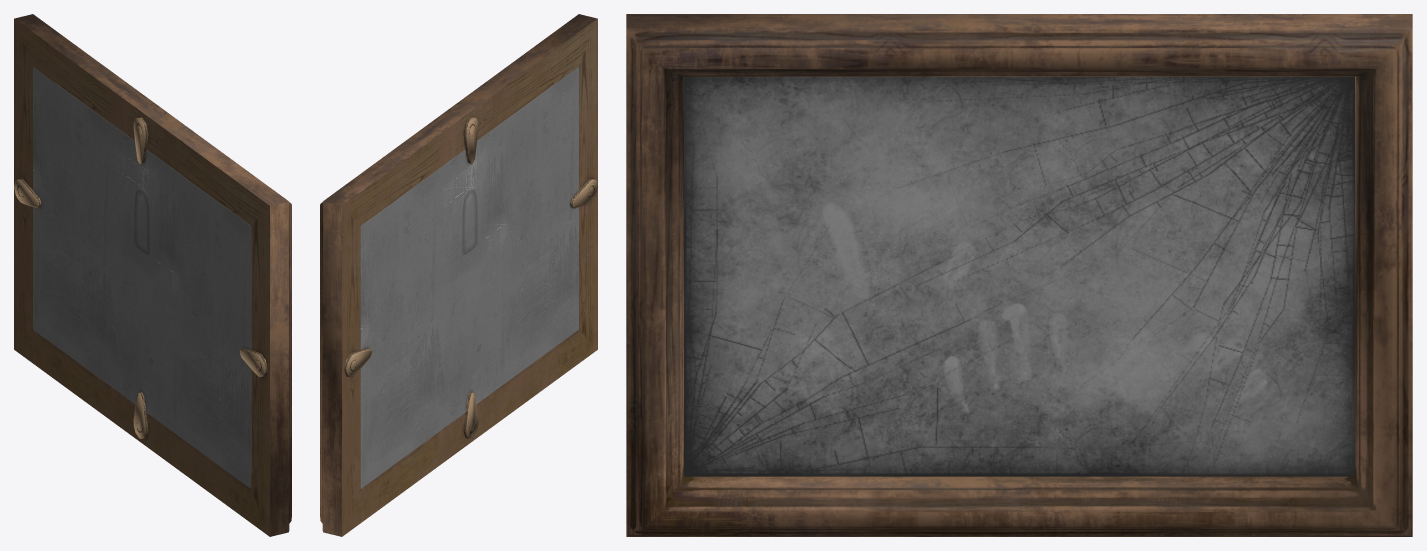
File: old_broken_mirror.glb
The picture shows the model from 3 angles, left to right: view 1: azimuth 30°, elevation 25°; view 2: azimuth 150°, elevation 25°; view 3: azimuth 270°, elevation 25°; orthographic projection. The views are drawn at different scales.
Visible parts, largest first — view 1: Object_2; view 2: Object_2; view 3: Object_2.
Boxes of the visible parts, <box> form: Object_2: <box>14,14,291,536</box>; Object_2: <box>320,14,597,536</box>; Object_2: <box>626,14,1412,536</box>.
Size of the model in its own units: 0.1961 by 2 by 2.8.
Materials: 1 (1 with a texture image).
